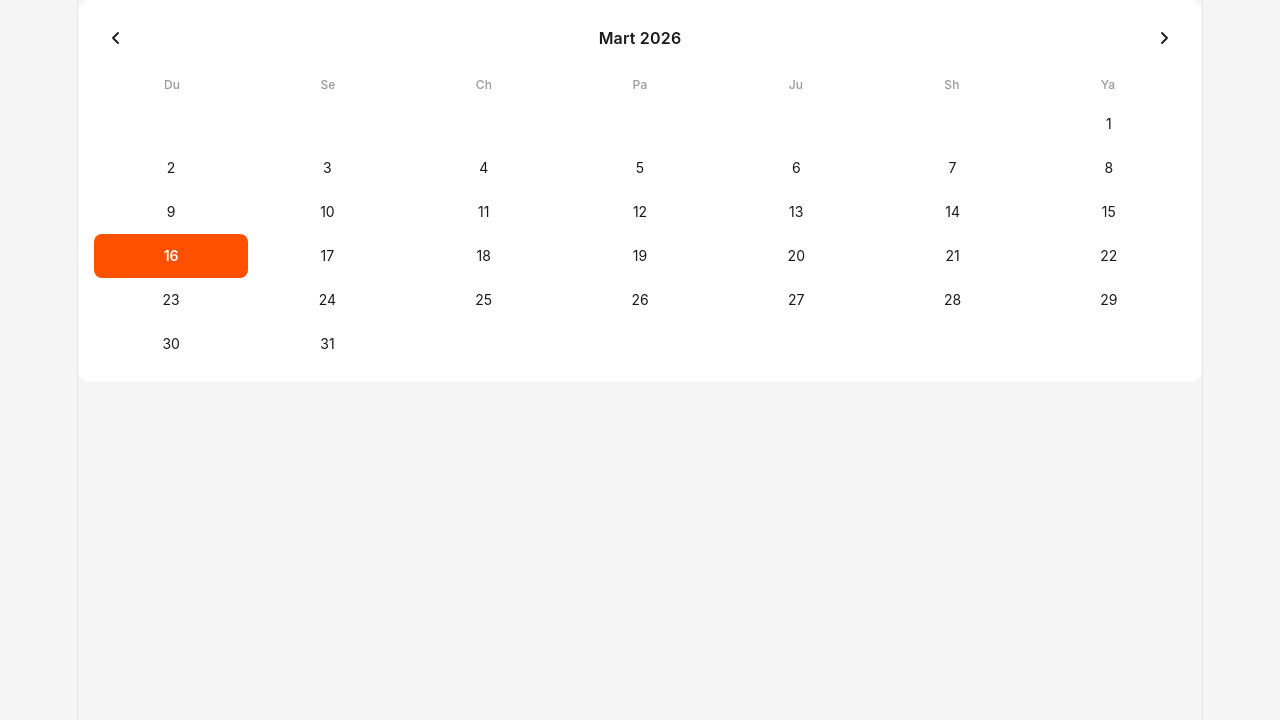
Calendar › navigates to next month
Click the button named "Next month".
click(1164, 38)  # box [1142,16,1186,60]
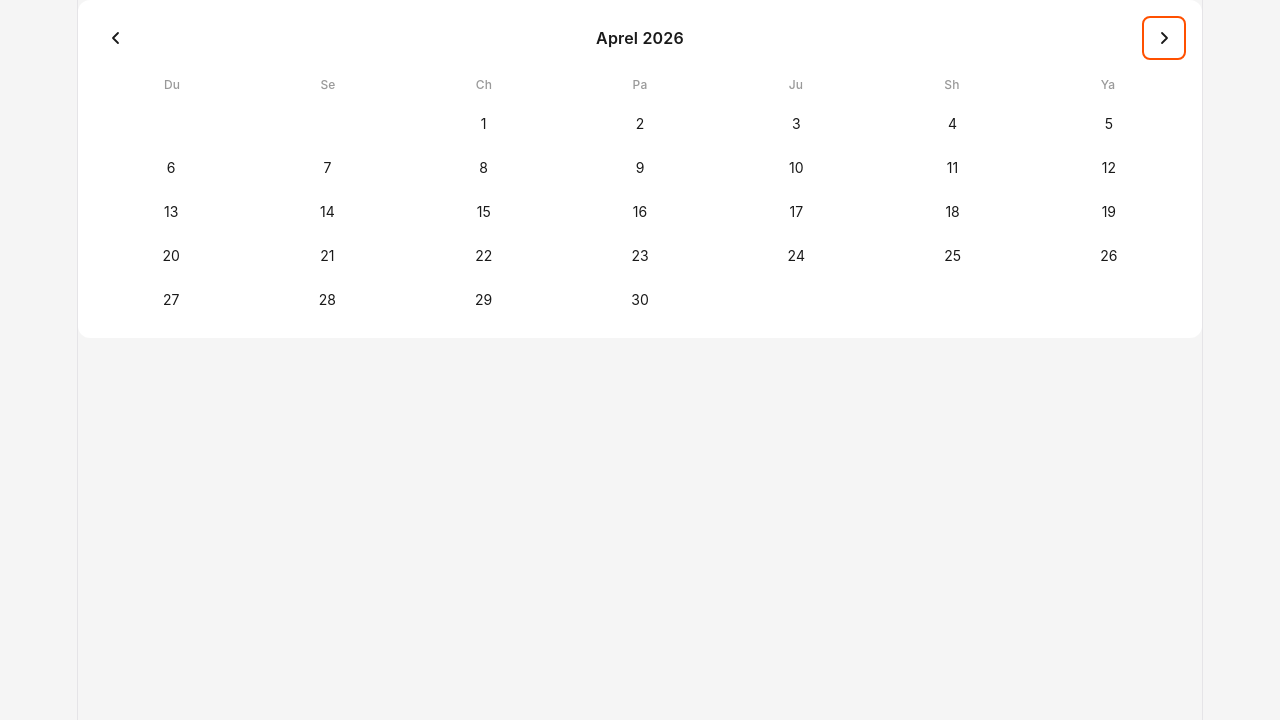
Now the text "Aprel 2026" is shown, box [596,26,684,50]
